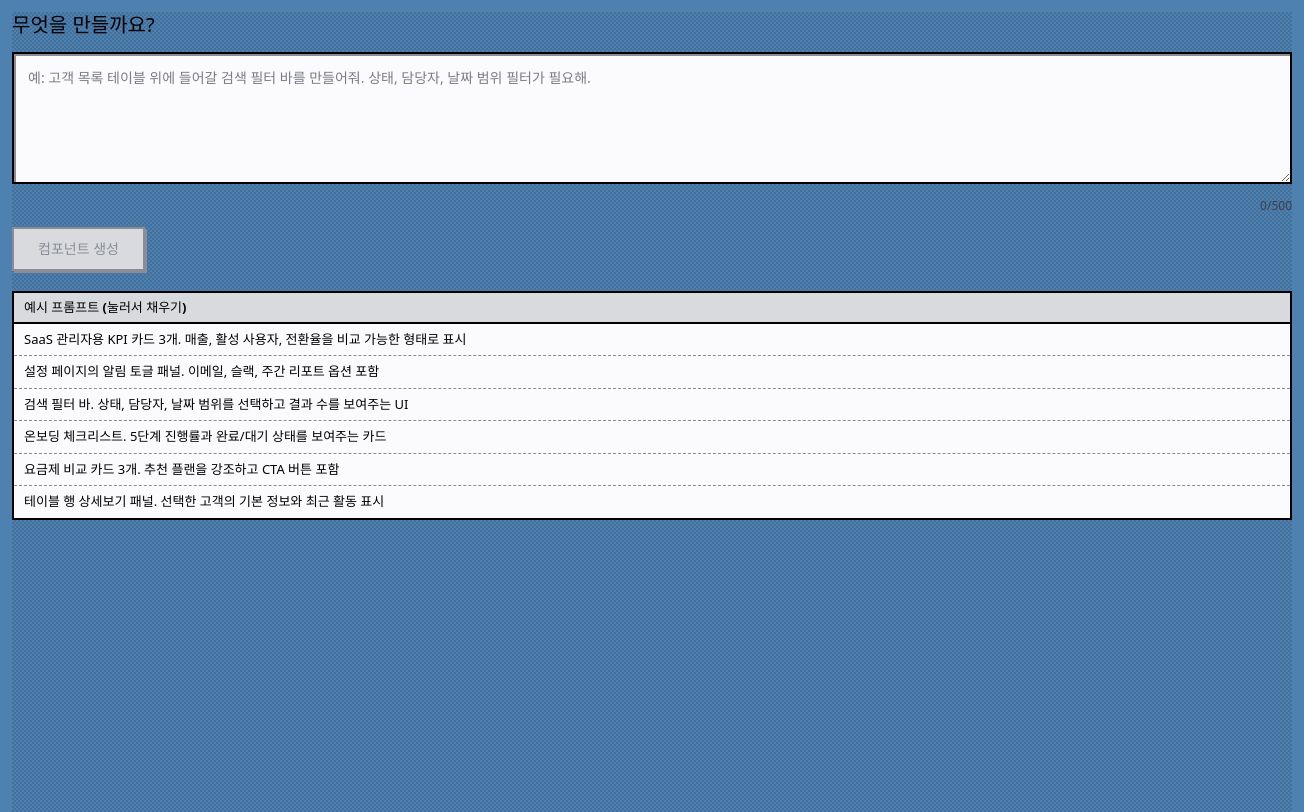
Test: PromptInput › 입력한 글자 수를 "n/500" 형태로 보여준다
Type "카드" into the text box. click: (652, 118)
box: [12,52,1292,184]
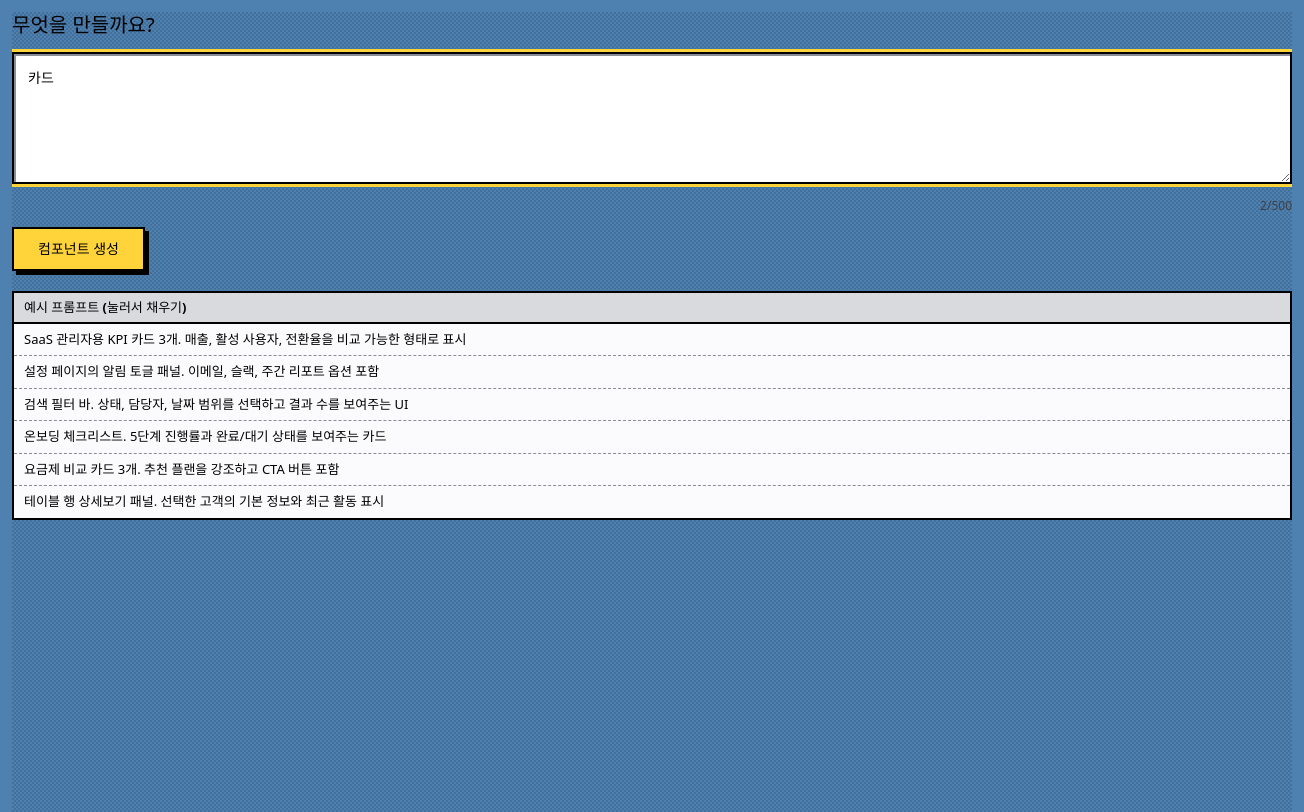
expect the text "2/500" is shown: met, box [1260,196,1292,215]
